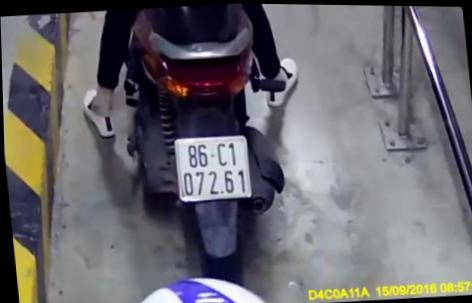LP: (169, 130, 254, 203)
